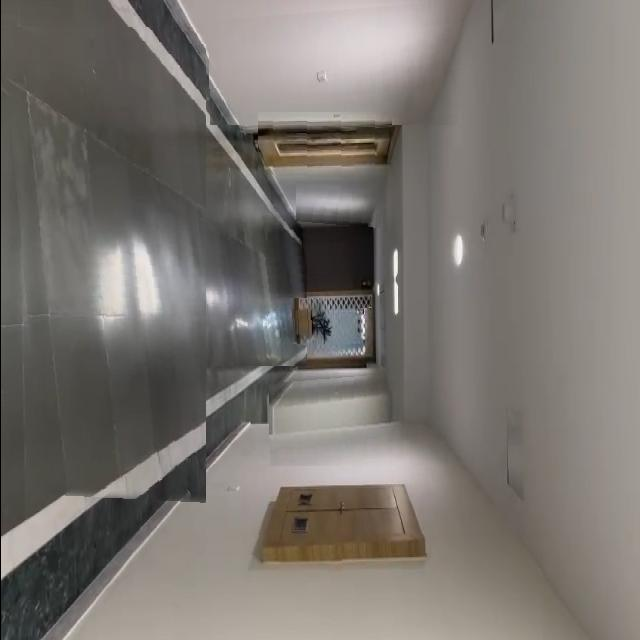door: (257, 112, 391, 179)
floor: (0, 27, 205, 505), (196, 206, 306, 366)
furniture: (295, 182, 384, 228), (291, 298, 333, 346)
wall: (168, 523, 542, 640), (207, 0, 460, 125), (268, 372, 409, 466)
